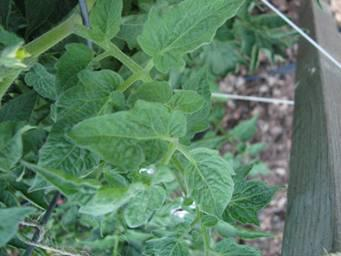Tomato leaf mosaic virus: (129, 0, 269, 76), (61, 98, 189, 172), (179, 140, 235, 218), (116, 184, 168, 229), (81, 0, 124, 48), (75, 65, 125, 99), (166, 89, 202, 112)
